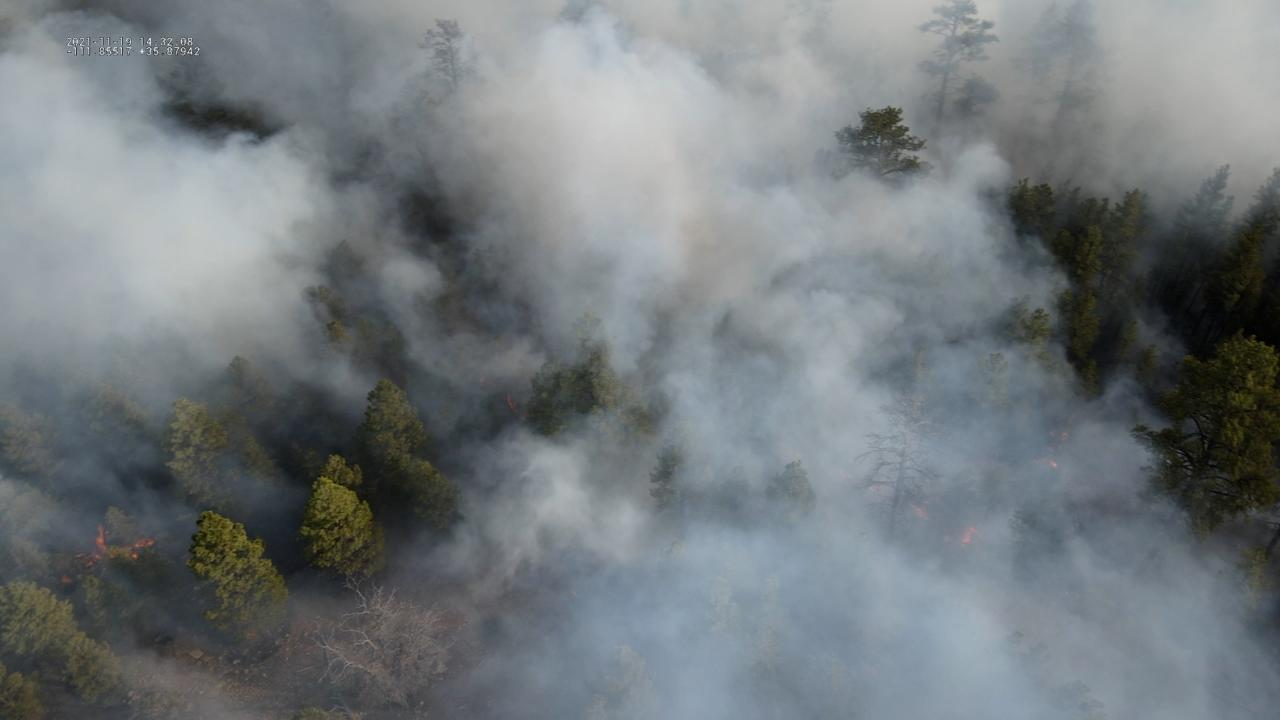fire: (61, 521, 157, 590), (960, 526, 976, 545), (911, 504, 929, 520), (506, 392, 516, 414), (1058, 431, 1072, 441), (1048, 458, 1058, 468)
smoke: (0, 0, 1280, 720)
